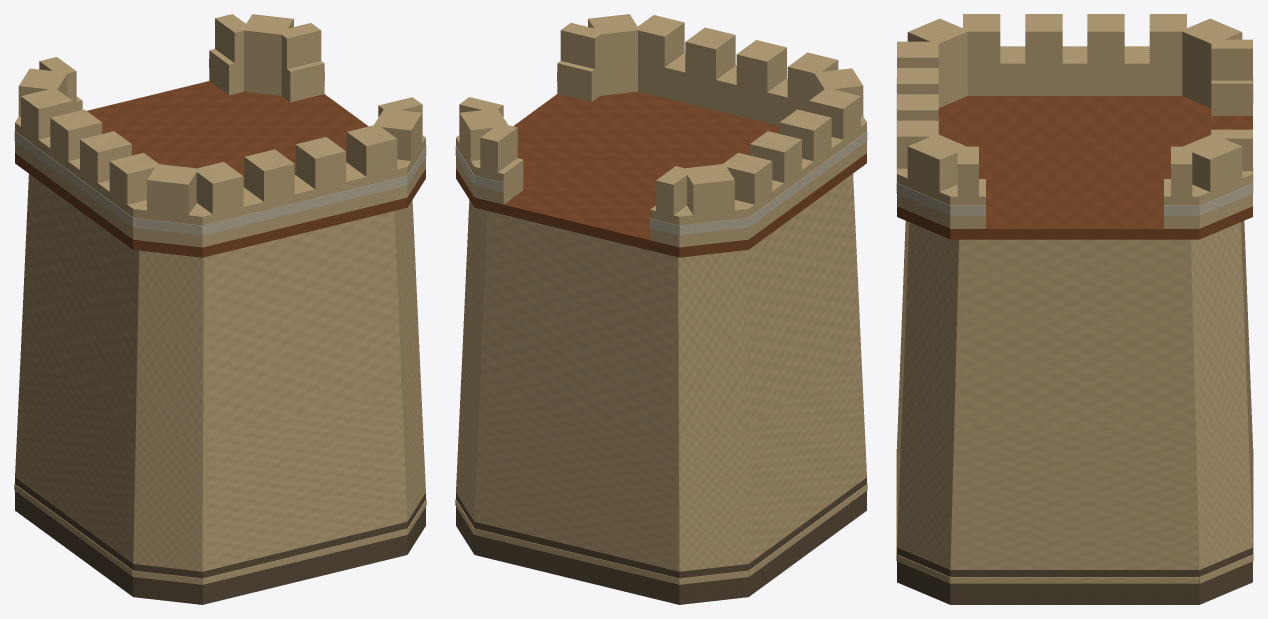
File: Berber_Bastion_Age3_corner.fbx
The picture shows the model from 3 angles, left to right: view 1: azimuth 30°, elevation 25°; view 2: azimuth 150°, elevation 25°; view 3: azimuth 270°, elevation 25°; orthographic projection. The views are drawn at different scales.
Parts seen in each view (by area): view 1: corner_battered_upper, corner_battered_lower, corner_continuous_walk_floor, corner_stone_foot, corner_guard_0_0, corner_guard_6_0, corner_owner_band_0_0, corner_guard_7_0, corner_merlon_0_0_1, corner_merlon_0_0_3, corner_merlon_0_0_2, corner_merlon_7_0_0 (+28 smaller); view 2: corner_battered_upper, corner_battered_lower, corner_continuous_walk_floor, corner_stone_foot, corner_guard_0_0, corner_guard_6_0, corner_guard_5_0, corner_merlon_0_0_2, corner_merlon_0_0_1, corner_guard_2_0, corner_foundation_bond_4, corner_merlon_0_0_3 (+29 smaller); view 3: corner_battered_upper, corner_battered_lower, corner_continuous_walk_floor, corner_stone_foot, corner_guard_6_0, corner_foundation_bond_2, corner_merlon_3_0_0, corner_merlon_1_0_0, corner_guard_4_1, corner_guard_1_0, corner_guard_3_0, corner_merlon_4_1_0 (+27 smaller).
Boxes of the visible parts, bbox=[...] form: corner_battered_upper: bbox=[21, 174, 419, 436]; corner_battered_lower: bbox=[15, 345, 425, 571]; corner_continuous_walk_floor: bbox=[15, 81, 425, 257]; corner_stone_foot: bbox=[15, 477, 425, 604]; corner_guard_0_0: bbox=[192, 160, 407, 247]; corner_guard_6_0: bbox=[15, 122, 146, 239]; corner_owner_band_0_0: bbox=[202, 175, 407, 235]; corner_guard_7_0: bbox=[133, 200, 206, 247]; corner_merlon_0_0_1: bbox=[244, 159, 294, 201]; corner_merlon_0_0_3: bbox=[346, 132, 397, 176]; corner_merlon_0_0_2: bbox=[295, 145, 345, 189]; corner_merlon_7_0_0: bbox=[147, 173, 196, 215]; corner_battered_upper: bbox=[462, 174, 860, 436]; corner_battered_lower: bbox=[456, 345, 866, 571]; corner_continuous_walk_floor: bbox=[456, 91, 866, 257]; corner_stone_foot: bbox=[456, 477, 866, 604]; corner_guard_0_0: bbox=[638, 53, 809, 125]; corner_guard_6_0: bbox=[735, 121, 866, 239]; corner_guard_5_0: bbox=[679, 200, 748, 247]; corner_merlon_0_0_2: bbox=[685, 35, 735, 79]; corner_merlon_0_0_1: bbox=[736, 48, 786, 92]; corner_guard_2_0: bbox=[557, 61, 600, 102]; corner_foundation_bond_4: bbox=[474, 528, 679, 584]; corner_merlon_0_0_3: bbox=[638, 23, 684, 67]; corner_battered_upper: bbox=[902, 221, 1247, 427]; corner_battered_lower: bbox=[897, 312, 1252, 569]; corner_continuous_walk_floor: bbox=[897, 96, 1252, 239]; corner_stone_foot: bbox=[897, 547, 1252, 604]; corner_guard_6_0: bbox=[967, 46, 1182, 95]; corner_foundation_bond_2: bbox=[950, 577, 1199, 583]; corner_merlon_3_0_0: bbox=[1192, 147, 1242, 191]; corner_merlon_1_0_0: bbox=[907, 148, 957, 191]; corner_guard_4_1: bbox=[1211, 80, 1252, 115]; corner_guard_1_0: bbox=[897, 170, 979, 228]; corner_guard_3_0: bbox=[1170, 171, 1252, 228]; corner_merlon_4_1_0: bbox=[1211, 48, 1252, 80].
Size of the model in its own units: 603 by 820 by 603.
4 materials, 4 textured.
